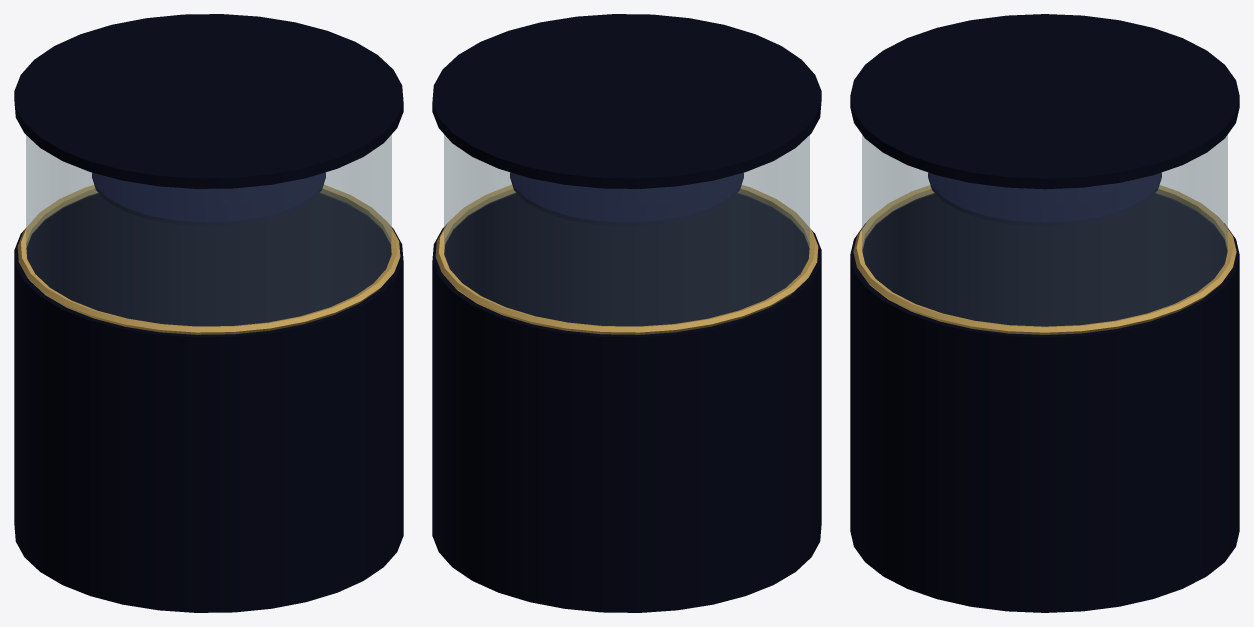
Rendered from mall-display-case-round.glb.
3 views of the same model, side by side, from view 1: azimuth 30°, elevation 25°; view 2: azimuth 150°, elevation 25°; view 3: azimuth 270°, elevation 25° (orthographic).
Parts seen in each view (by area): view 1: base__lacquer, glass__glass, trim__brass; view 2: base__lacquer, glass__glass, trim__brass; view 3: base__lacquer, glass__glass, trim__brass.
Boxes of the visible parts, x1,y1,x2,y2 form: base__lacquer: [14, 14, 403, 612]; glass__glass: [26, 134, 391, 325]; trim__brass: [17, 184, 400, 334]; base__lacquer: [432, 14, 821, 612]; glass__glass: [444, 134, 809, 325]; trim__brass: [435, 184, 818, 334]; base__lacquer: [850, 14, 1239, 612]; glass__glass: [862, 135, 1227, 326]; trim__brass: [853, 185, 1236, 334].
Size of the model in its own units: 1 by 1.23 by 1.
